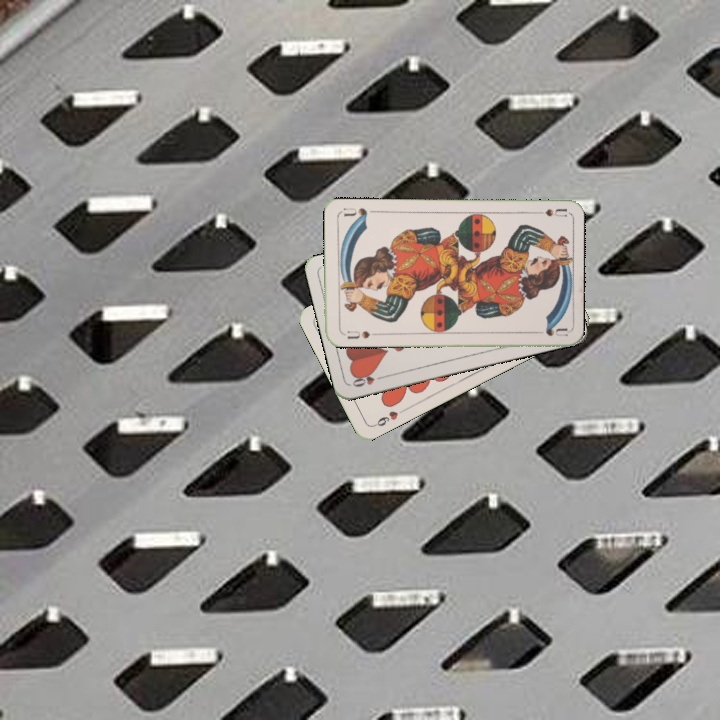H9: (369, 405, 406, 429)
HO: (348, 369, 388, 390)
SU: (527, 205, 568, 219), (343, 327, 372, 341)
